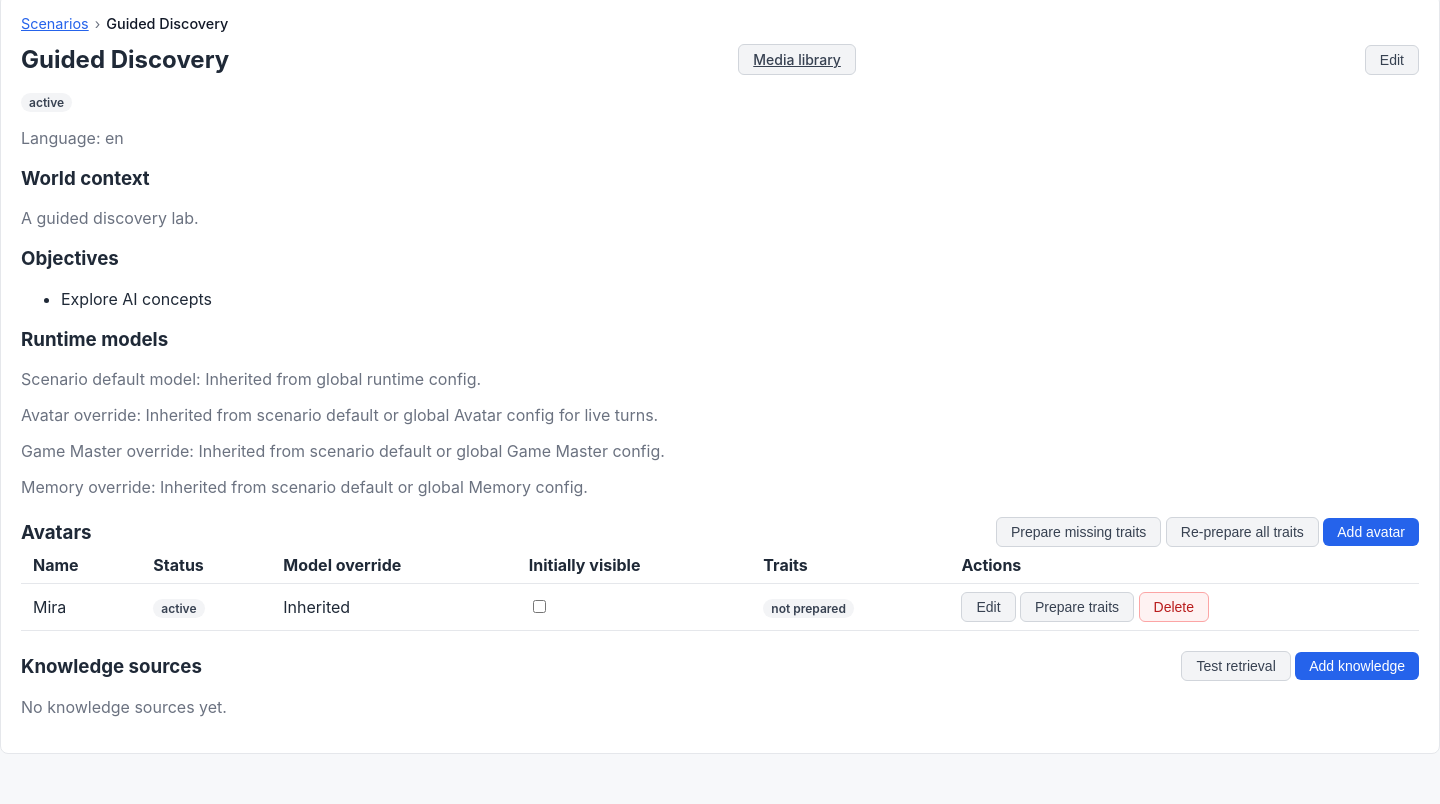
Test case: ScenarioDetailPage navigation and avatar actions › reflects sub-views in the URL and breadcrumb, and returns to the scenario on cancel
Expected: the heading "Guided Discovery" is shown, [21,45,229,74]
What coordinates should you click on to do the following:
click the button "Edit" in the row of "Mira"
I would click on:
 (988, 607)
Its box is [961,592,1016,622].
(page scrolled)
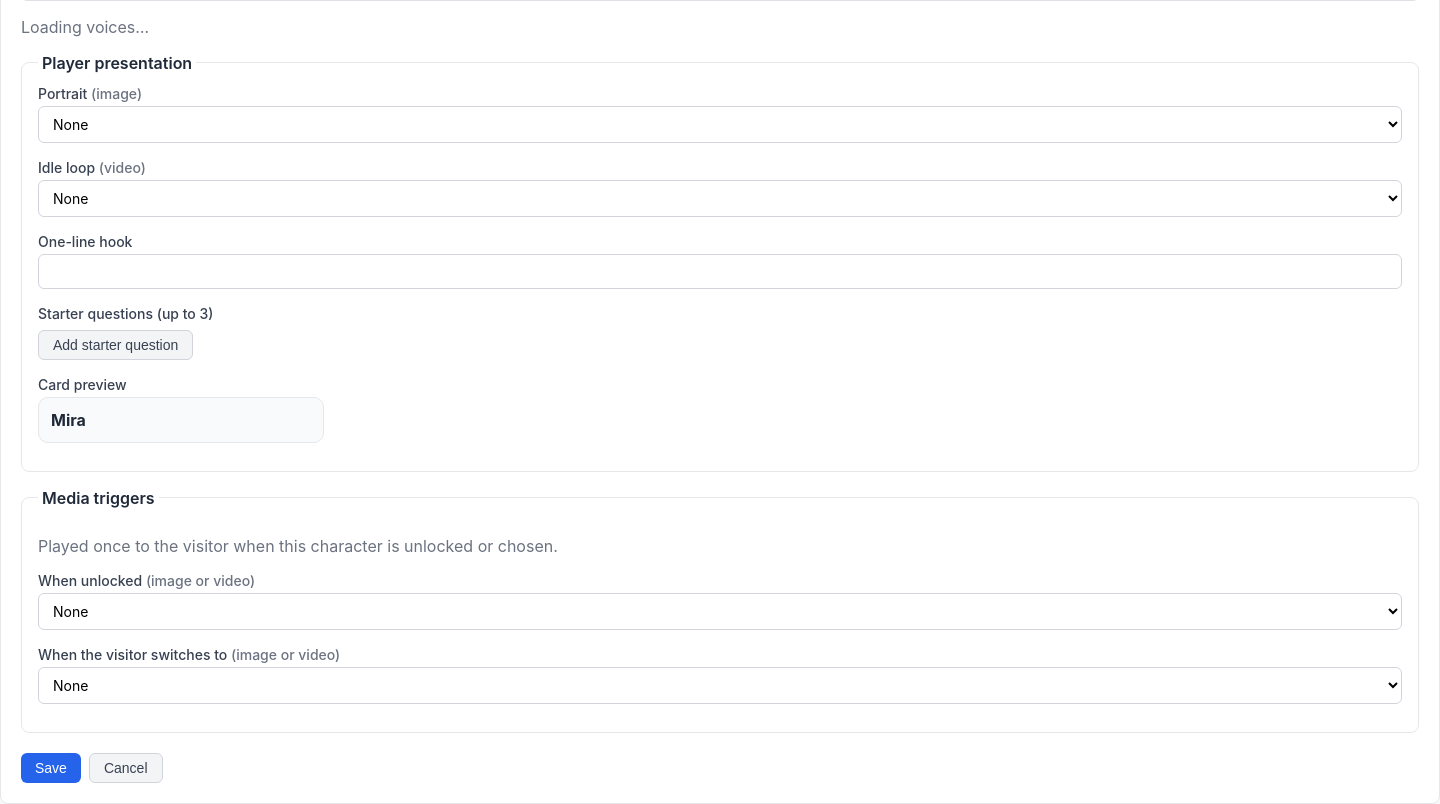
What coordinates should you click on to do the following:
click the button "Cancel"
I would click on:
 (126, 768)
Its box is [89,753,162,783].
(page scrolled)
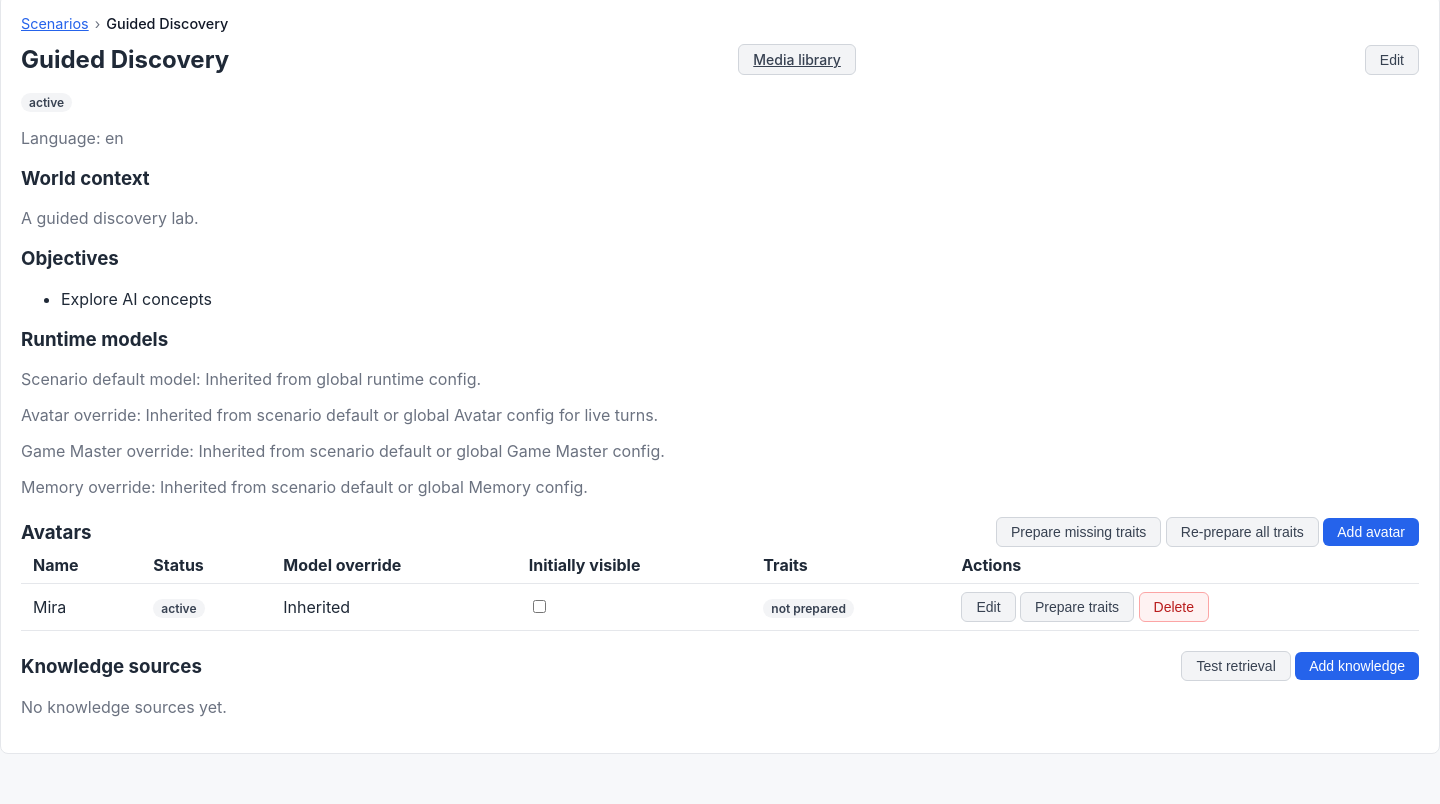
Expected: the heading "Guided Discovery" is shown, [21,45,229,74]
